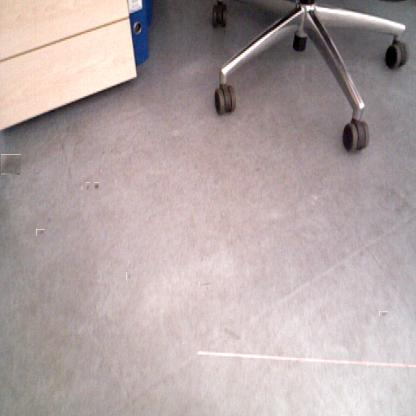mark: (0, 154, 21, 174), (223, 326, 241, 340), (202, 279, 212, 290), (93, 182, 99, 191), (380, 310, 387, 317), (37, 229, 44, 236), (66, 126, 72, 134), (126, 272, 131, 280), (86, 182, 90, 191)
